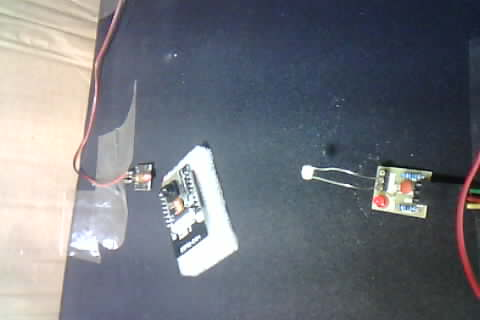esp32: (154, 152, 225, 273)
